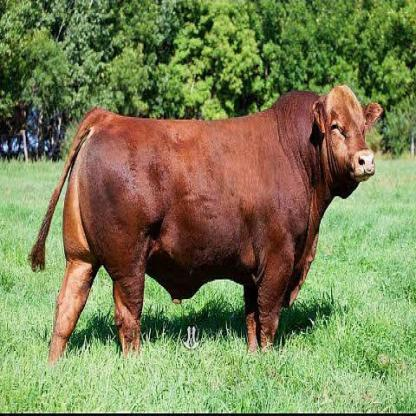cow: (50, 88, 382, 362)
